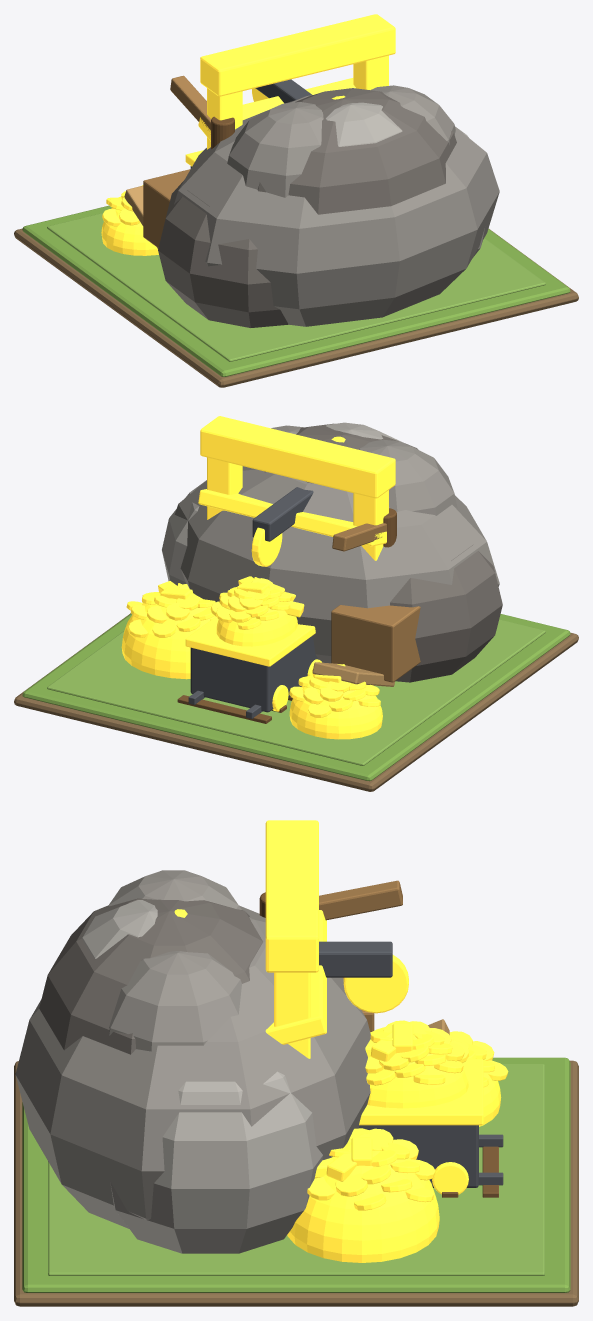
The model's file is gold_mine_lv6.glb.
3 views of the same model, one above another, from view 1: azimuth 30°, elevation 25°; view 2: azimuth 150°, elevation 25°; view 3: azimuth 270°, elevation 25° (orthographic). The views are drawn at different scales.
Parts seen in each view (by area): view 1: MineRock_0, Base_Inner, MineRock_3, Base_Grass, MineRock_1, GM_GantryBridge, Base_Dirt, MineRock_4, MineRock_6, OreHopperBin, MineRock_5, GoldMoundBase.002 (+7 smaller); view 2: MineRock_0, Base_Inner, Base_Grass, MineRock_1, GM_GantryBridge, Base_Dirt, OreHopperBin, MinecartBody, MineRock_4, GoldMoundBase.001, GoldMoundBase.002, MinecartRim (+12 smaller); view 3: MineRock_0, Base_Inner, MineRock_2, Base_Grass, MineRock_3, Base_Dirt, MineRock_5, GoldMoundBase.001, GM_GantryBridge, MinecartRim, MinecartBody, MineRock_4 (+11 smaller).
Part boxes in pixels (x1,y1,x2,y2): MineRock_0: [174, 95, 499, 326]; Base_Inner: [47, 213, 545, 361]; MineRock_3: [257, 88, 456, 214]; Base_Grass: [22, 205, 570, 376]; MineRock_1: [158, 181, 288, 327]; GM_GantryBridge: [200, 14, 395, 96]; Base_Dirt: [14, 228, 578, 387]; MineRock_4: [227, 102, 323, 197]; MineRock_6: [326, 102, 402, 146]; OreHopperBin: [143, 169, 190, 247]; MineRock_5: [370, 85, 455, 144]; GoldMoundBase.002: [101, 208, 158, 255]; MineRock_0: [174, 469, 499, 663]; Base_Inner: [47, 619, 545, 765]; Base_Grass: [22, 613, 570, 781]; MineRock_1: [390, 544, 502, 682]; GM_GantryBridge: [200, 416, 395, 498]; Base_Dirt: [14, 613, 578, 791]; OreHopperBin: [331, 605, 420, 682]; MinecartBody: [190, 635, 318, 712]; MineRock_4: [359, 439, 457, 515]; GoldMoundBase.001: [121, 595, 215, 679]; GoldMoundBase.002: [289, 682, 382, 739]; MinecartRim: [185, 616, 315, 666]; MineRock_0: [15, 905, 370, 1228]; Base_Inner: [48, 1064, 544, 1275]; MineRock_2: [110, 1071, 322, 1253]; Base_Grass: [22, 1057, 570, 1292]; MineRock_3: [39, 898, 262, 1054]; Base_Dirt: [14, 1060, 578, 1306]; MineRock_5: [109, 951, 241, 1051]; GoldMoundBase.001: [287, 1142, 439, 1262]; GM_GantryBridge: [265, 820, 318, 972]; MinecartRim: [359, 1059, 483, 1125]; MinecartBody: [359, 1125, 478, 1187]; MineRock_4: [108, 870, 241, 909].
Size of the model in its own units: 2.76 by 1.9 by 2.76.
